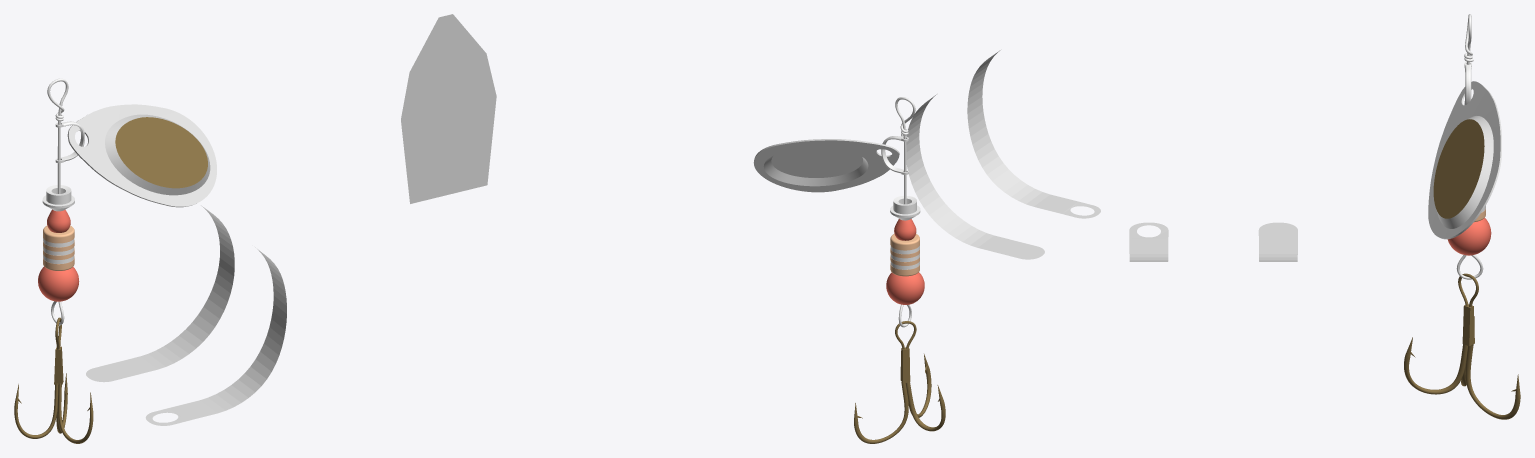
3 renders of one model, left to right at view 1: azimuth 30°, elevation 25°; view 2: azimuth 150°, elevation 25°; view 3: azimuth 270°, elevation 25°, orthographic. The views are drawn at different scales.
Parts seen in each view (by area): view 1: Plane, Cube.004, Cube, Cube.001, Cylinder.001, NurbsPath.004, Sphere.001, NurbsPath, Cylinder; view 2: Cube.004, Cube, Cube.001, NurbsPath.004, Cylinder.001, Sphere.001, NurbsPath, Cylinder; view 3: Cube.004, NurbsPath.004, Cube, Cube.001, Sphere.001, NurbsPath, Cube.003.
Part boxes in pixels (bbox=[...]): Plane: bbox=[401, 14, 496, 203]; Cube.004: bbox=[67, 104, 216, 207]; Cube: bbox=[86, 205, 234, 382]; Cube.001: bbox=[145, 247, 286, 425]; Cylinder.001: bbox=[43, 225, 74, 270]; NurbsPath.004: bbox=[14, 373, 93, 443]; Sphere.001: bbox=[38, 266, 79, 301]; NurbsPath: bbox=[47, 78, 68, 325]; Cylinder: bbox=[42, 185, 74, 211]; Cube.004: bbox=[753, 139, 899, 192]; Cube: bbox=[906, 94, 1044, 259]; Cube.001: bbox=[967, 50, 1100, 218]; NurbsPath.004: bbox=[854, 354, 945, 443]; Cylinder.001: bbox=[890, 234, 919, 276]; Sphere.001: bbox=[886, 272, 924, 304]; NurbsPath: bbox=[895, 97, 915, 327]; Cylinder: bbox=[890, 196, 920, 220]; Cube.004: bbox=[1428, 81, 1501, 239]; NurbsPath.004: bbox=[1404, 316, 1520, 419]; Cube: bbox=[1258, 222, 1297, 261]; Cube.001: bbox=[1129, 222, 1168, 261]; Sphere.001: bbox=[1447, 218, 1491, 255]; NurbsPath: bbox=[1456, 14, 1483, 279]; Cube.003: bbox=[1462, 304, 1474, 346].
Size of what is drawn, in the model's own units: 5.95 by 4.31 by 3.88.
